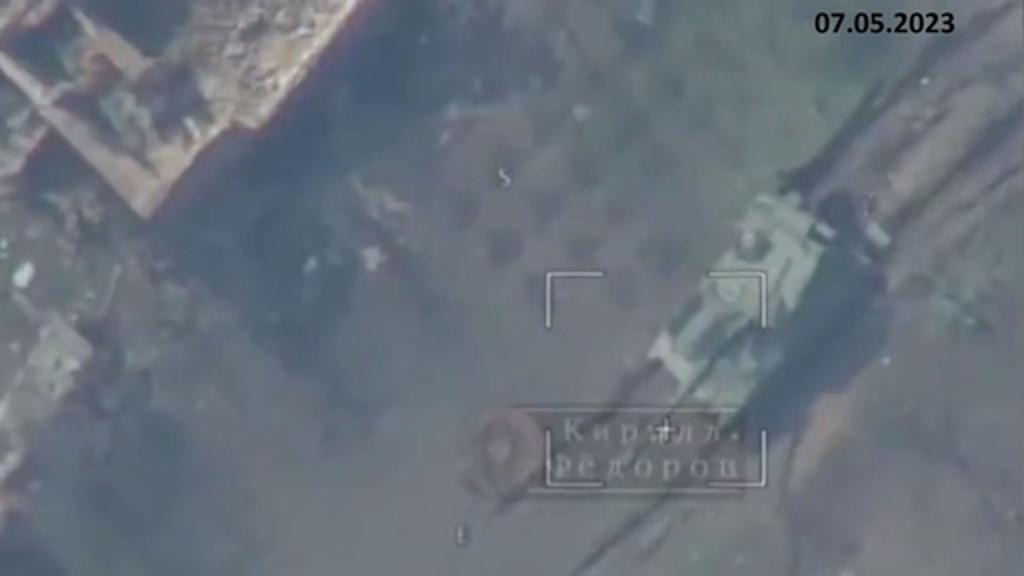ART: (646, 182, 852, 418)
